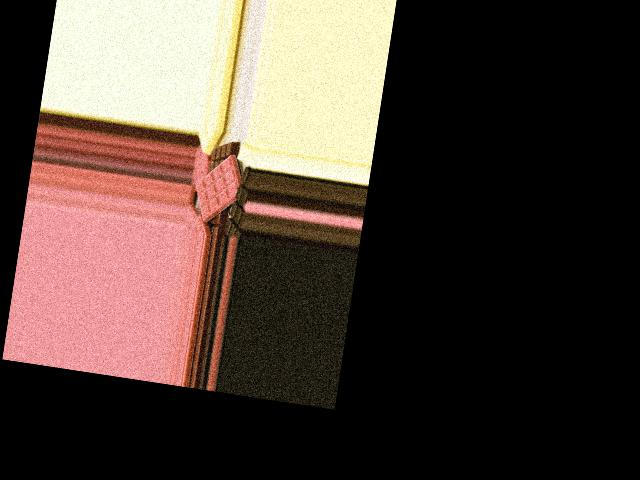chocolate: (188, 150, 254, 228)
